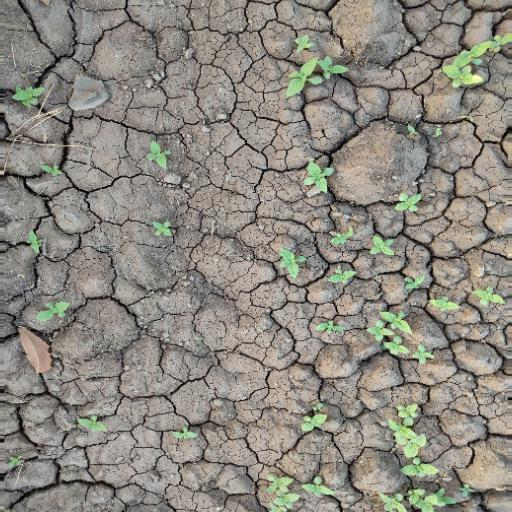crop: (264, 32, 351, 100), (365, 304, 436, 376), (381, 397, 441, 482), (434, 31, 512, 90), (292, 158, 339, 200), (141, 136, 175, 177), (32, 293, 72, 326), (275, 242, 307, 282), (297, 405, 330, 436), (366, 231, 395, 261), (145, 218, 176, 240)
